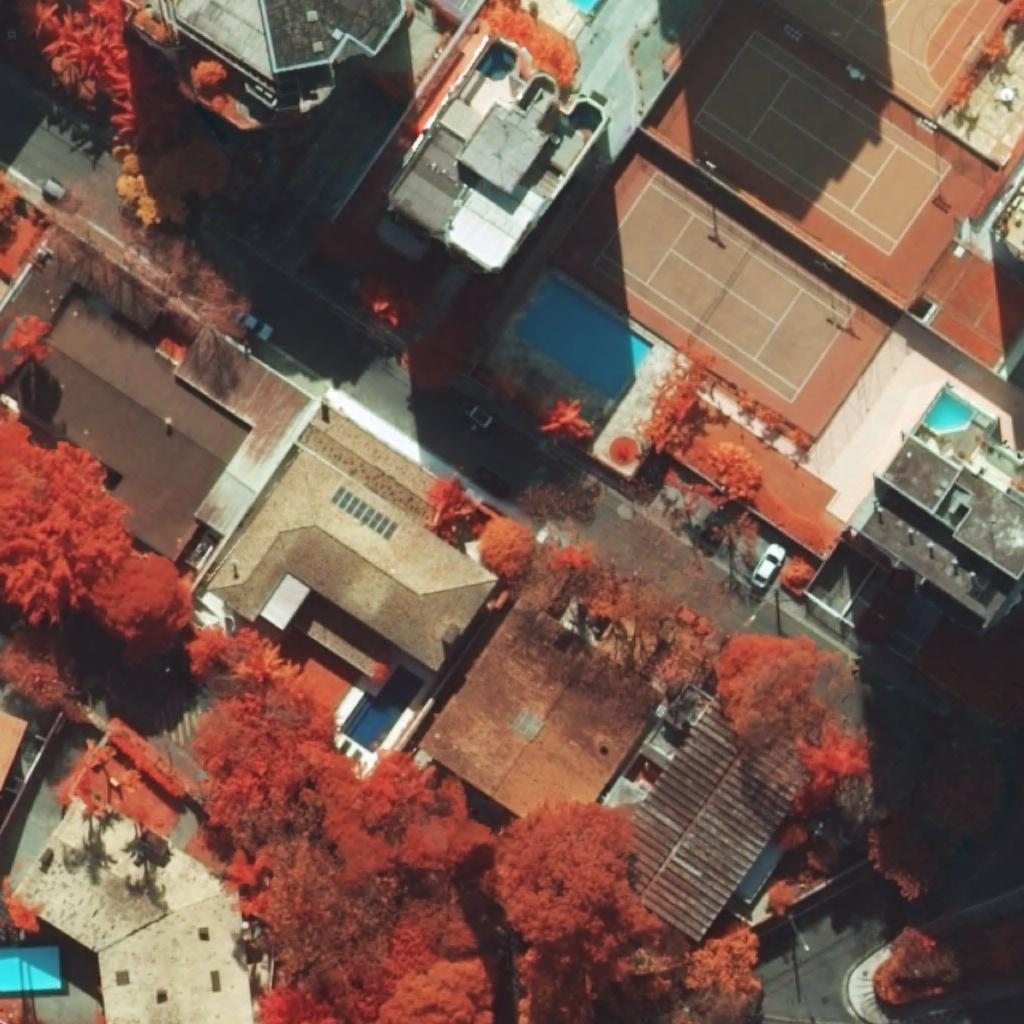pool: (515, 277, 654, 401), (339, 665, 424, 754), (0, 946, 61, 992), (924, 393, 974, 431), (475, 42, 517, 81)
